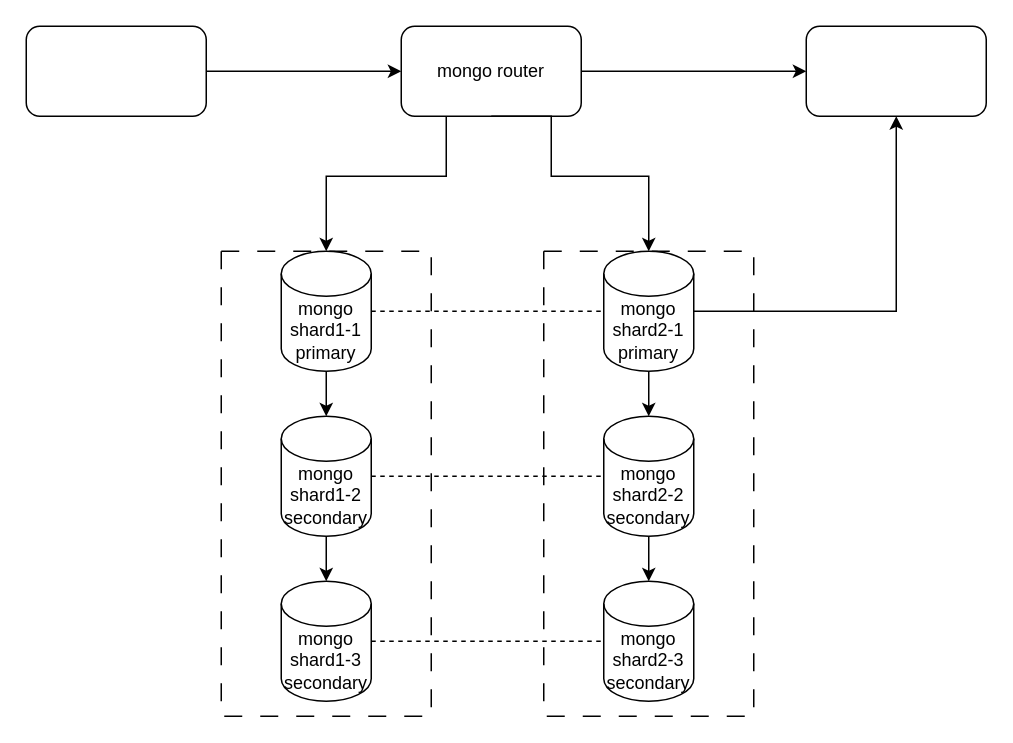
Image size: 1013x743. Some labels were removed from this diagram. The box of each missing label's shape, as (x1, y1, x2, y2) in pixels:
mongo config: (805, 25, 986, 116)
pymongo-api: (25, 25, 206, 116)
